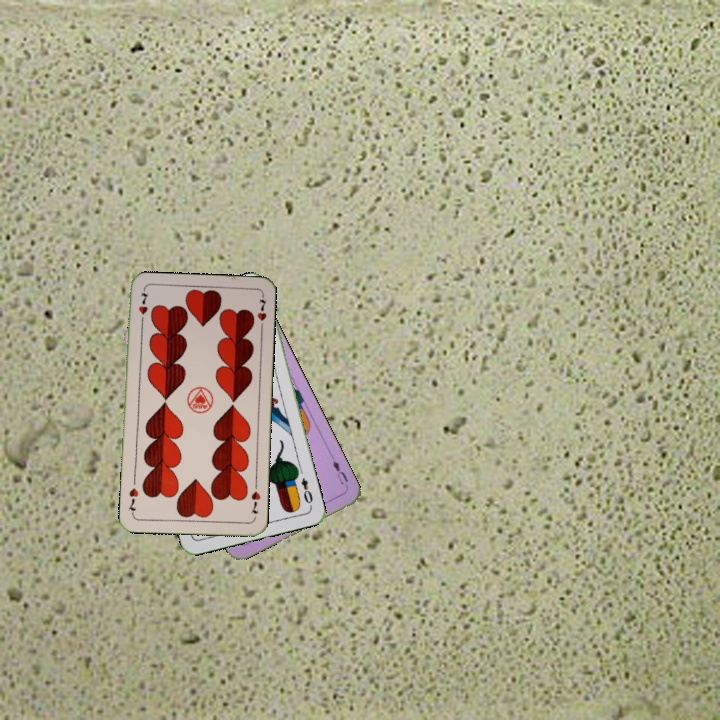EO: (297, 474, 315, 509)
EU: (327, 452, 351, 488)
H7: (134, 289, 150, 328), (247, 480, 263, 516)
